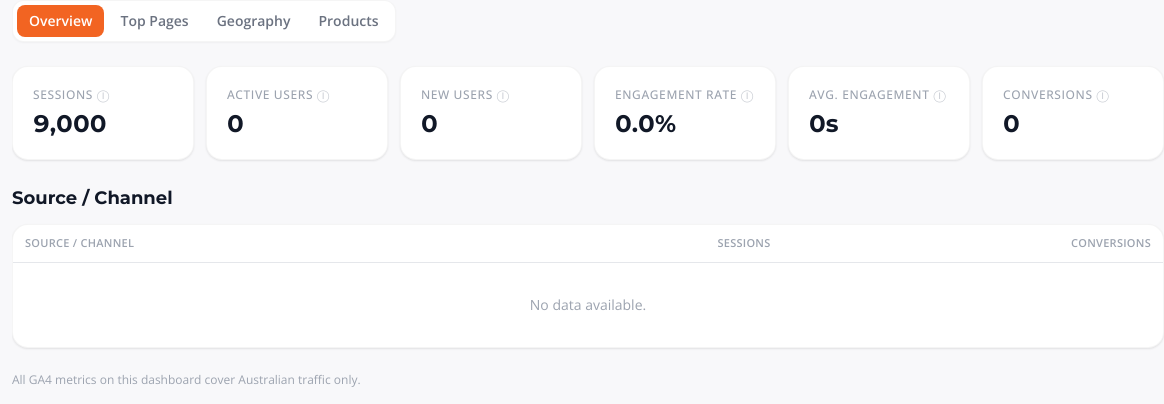
Test: renders product funnel row on the Products sub-tab
This screenshot has width=1164, height=404.
What coordinates should you click on to do the following:
click the tab "Products"
I would click on:
 (349, 21)
Its box is [306,5,391,37].
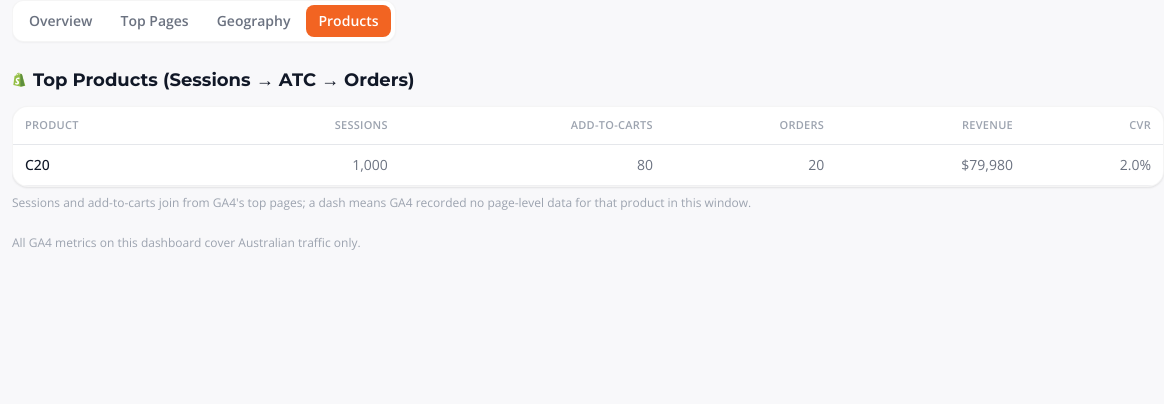
Now the text "C20" is shown, box [13,144,207,185]
Now the text "2.0%" is shown, box [1025,144,1163,185]
